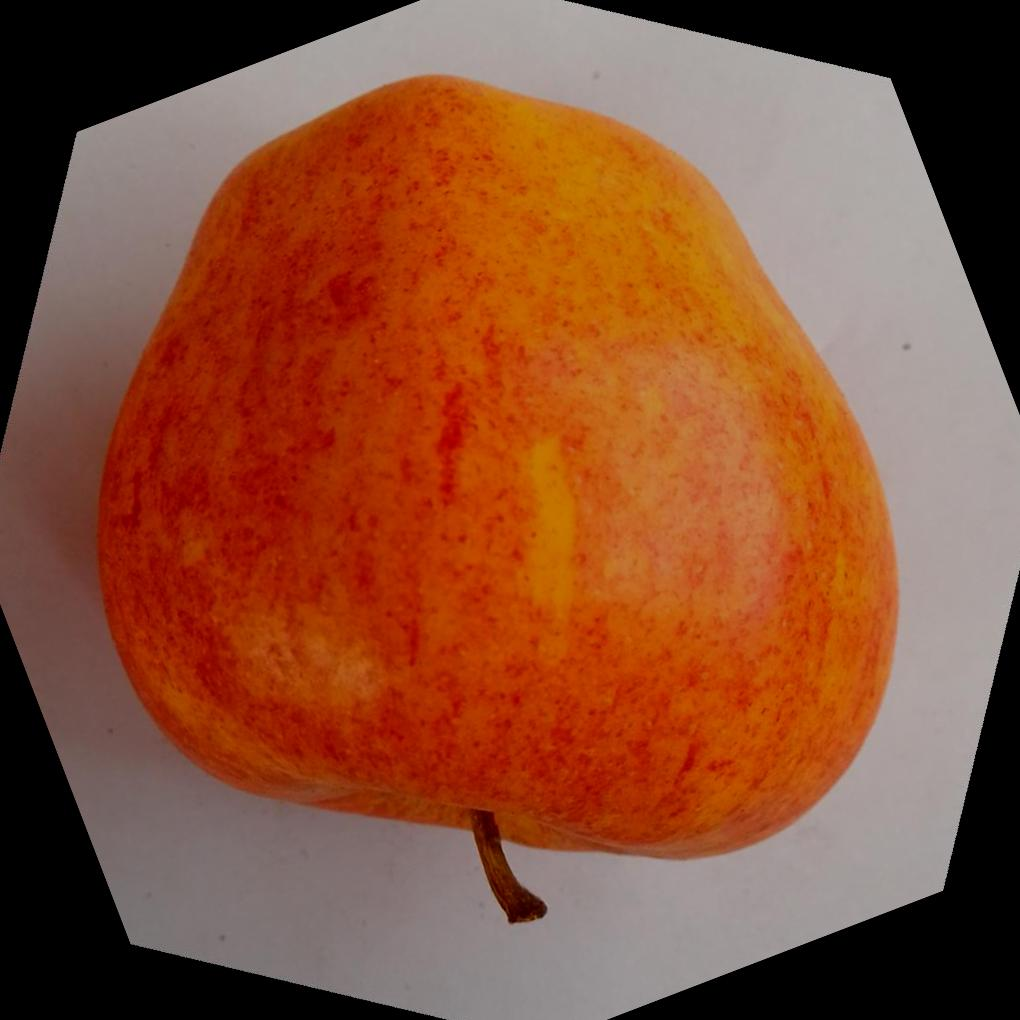FreshGuava: (96, 69, 906, 918)
